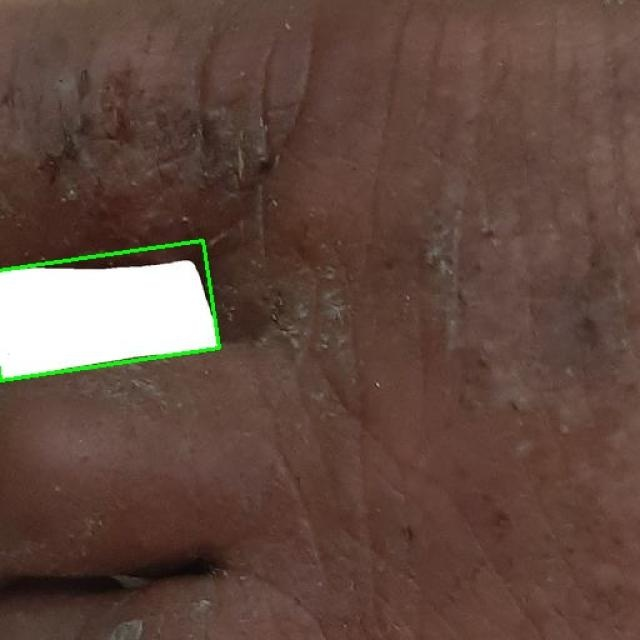Eczema: (0, 240, 221, 383)
